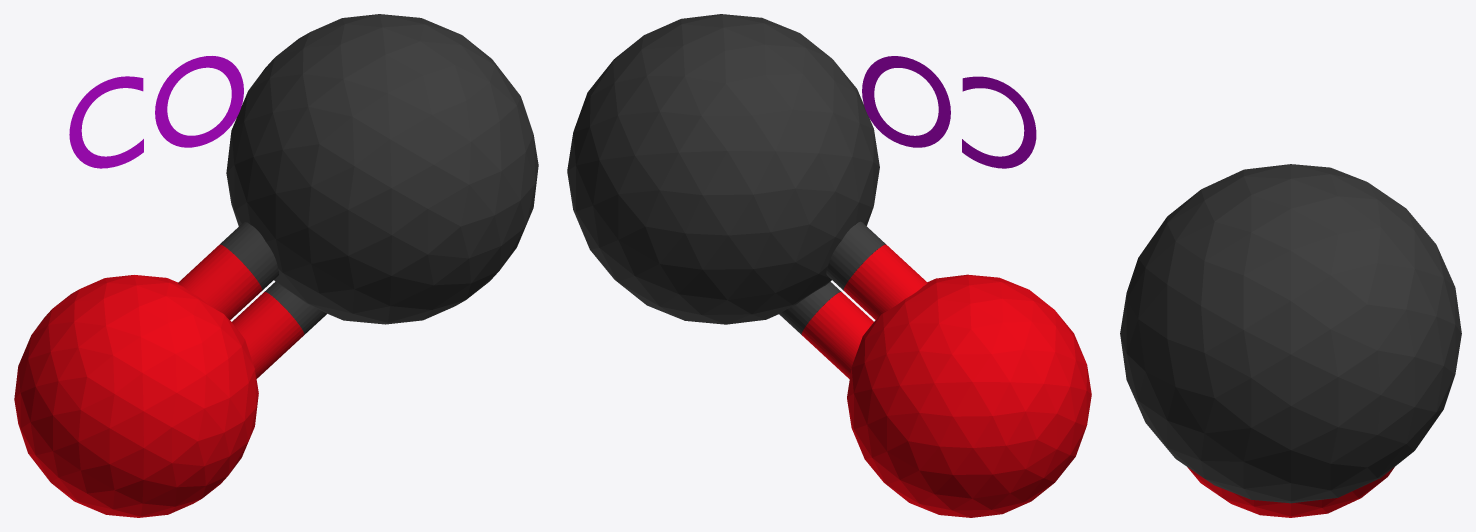
3 renders of one model, left to right at view 1: azimuth 30°, elevation 25°; view 2: azimuth 150°, elevation 25°; view 3: azimuth 270°, elevation 25°, orthographic. The views are drawn at different scales.
Visible parts, largest first — view 1: Shape_IndexedFaceSet.003, Shape_IndexedFaceSet.002, Text; view 2: Shape_IndexedFaceSet.003, Shape_IndexedFaceSet.002, Text; view 3: Shape_IndexedFaceSet.003, Shape_IndexedFaceSet.002.
Part boxes in pixels (<box>): Shape_IndexedFaceSet.003: <box>220,14,538,334</box>; Shape_IndexedFaceSet.002: <box>14,244,304,517</box>; Text: <box>69,56,243,168</box>; Shape_IndexedFaceSet.003: <box>567,14,885,334</box>; Shape_IndexedFaceSet.002: <box>801,244,1091,517</box>; Text: <box>862,56,1036,168</box>; Shape_IndexedFaceSet.003: <box>1120,164,1461,503</box>; Shape_IndexedFaceSet.002: <box>1187,467,1394,517</box>.
Bounding box in the file's own units: 16.08 × 13.7 × 8.94.
